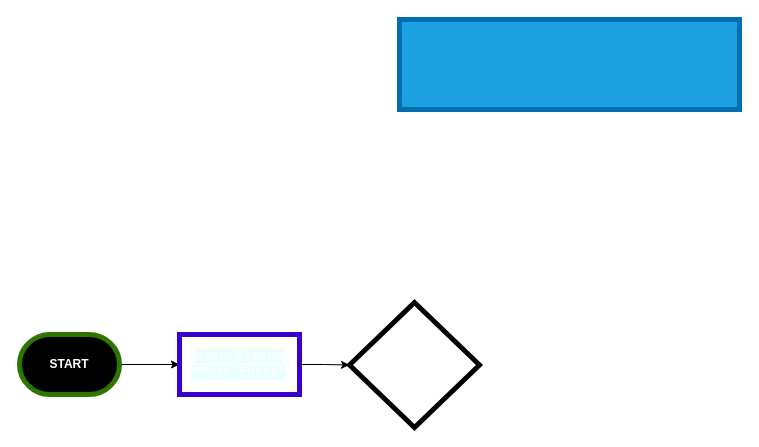
Some shapes in this 759 by 447 pixel diagram are drawn without their labels. Here are the shapes that lost their labels. From the top down, the centre of each, then its label:
point 569,64: QC NewBooks — Post Entry Logic
point 414,365: Are All Fields Filled In?
